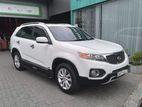car: (10, 21, 130, 94)
